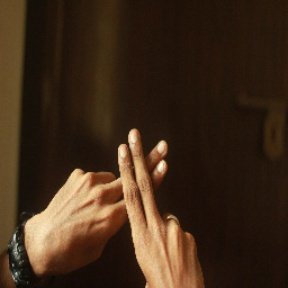F: (84, 119, 192, 265)
